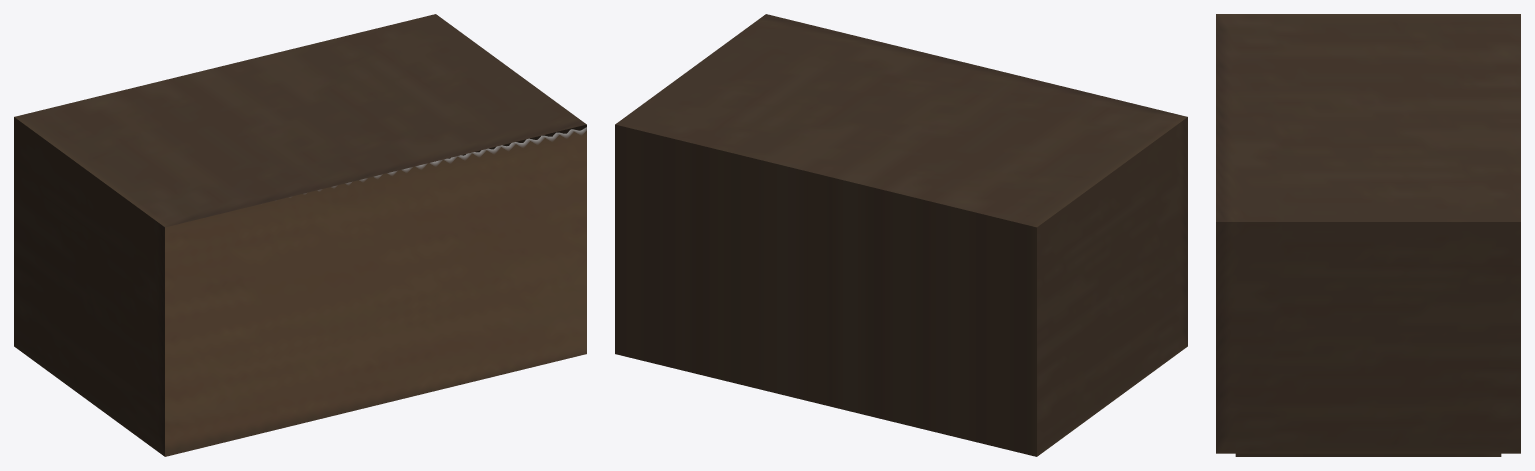
Rendered from pz_counter_wooden_wall.obj.
3 views of the same model, side by side, from view 1: azimuth 30°, elevation 25°; view 2: azimuth 150°, elevation 25°; view 3: azimuth 270°, elevation 25° (orthographic).
Size of the model in its own units: 1 by 0.536 by 0.62.
1 material, 1 textured.
